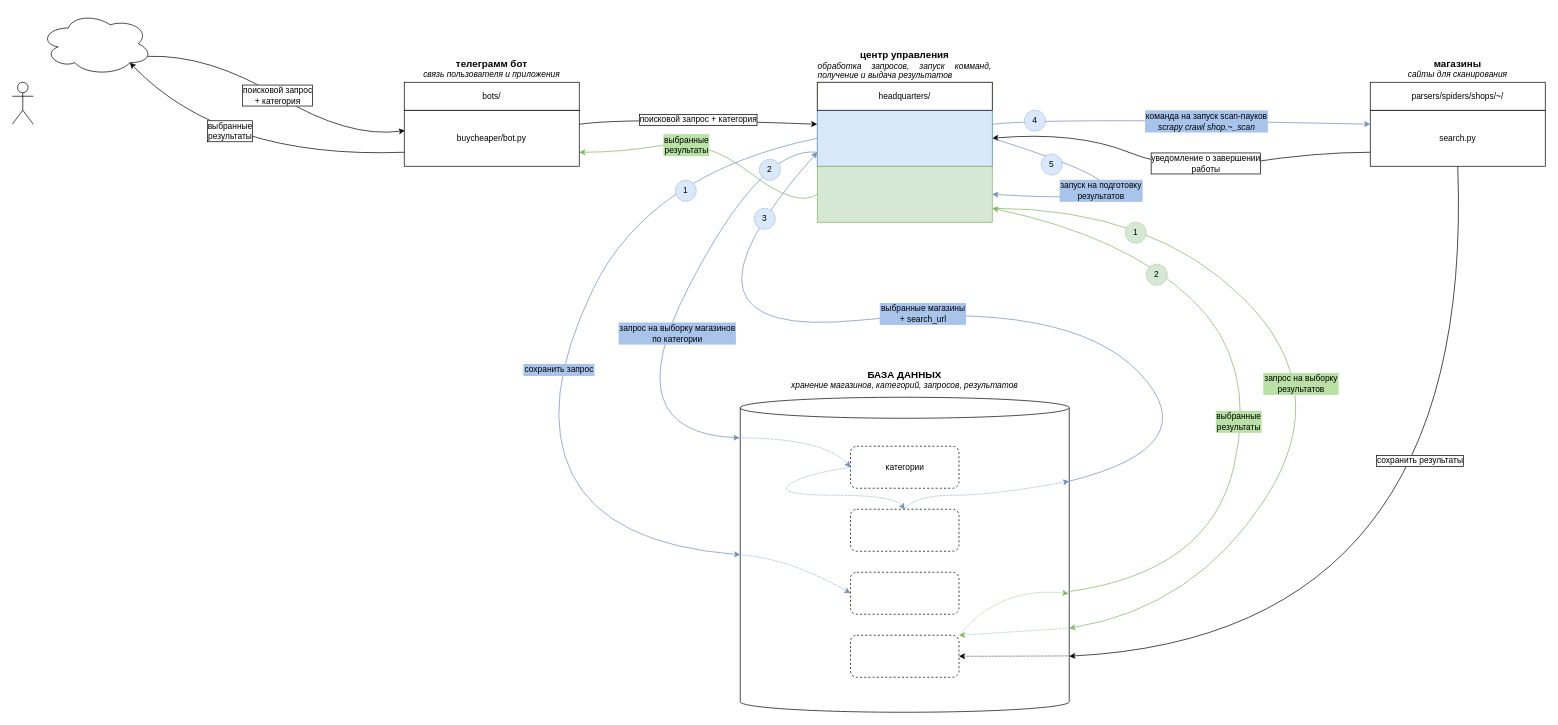
The diagram is 1558 pixels wide and 725 high, and some of its shapes have lost their labels. The shapes that lost their labels are listed below. From the top down, each one's box as (x1, y1, x2, y2) in pixels, then its label:
(40, 12, 152, 75): найти товар подешевле
(12, 82, 33, 124): User
(817, 110, 992, 166): scan_handler.py
(817, 166, 992, 222): result_handler.py
(850, 509, 959, 551): магазины
(850, 572, 959, 614): запросы
(850, 635, 959, 677): результаты
